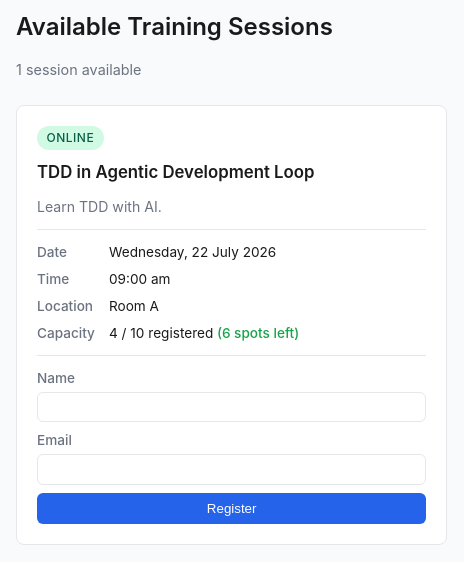
Scenario: TrainingSessionsPage registration › shows the closed message and hides the form when the server answers 422
Expected: the link "TDD in Agentic Development Loop" is shown, [37,162,314,182]
Type "Ada Lovelace" into the field labelled "Name" at (232, 407), box [37,392,426,422]
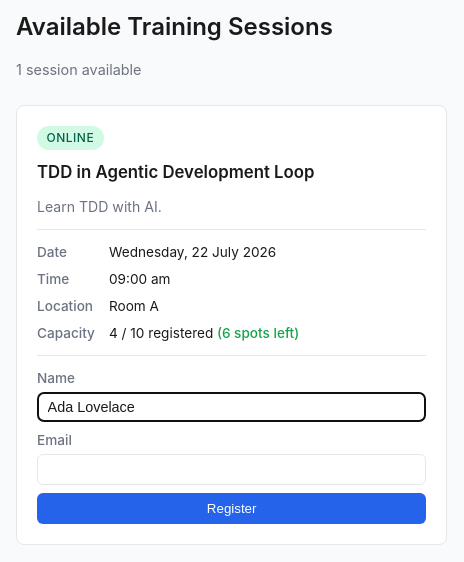
Type "ada@example.com" into the field labelled "Email" at (232, 469), box [37,454,426,485]
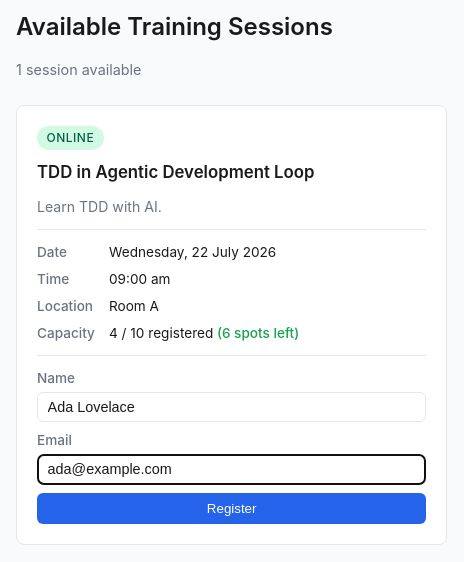
Click the button "Register" at (232, 508), box [37,493,426,524]
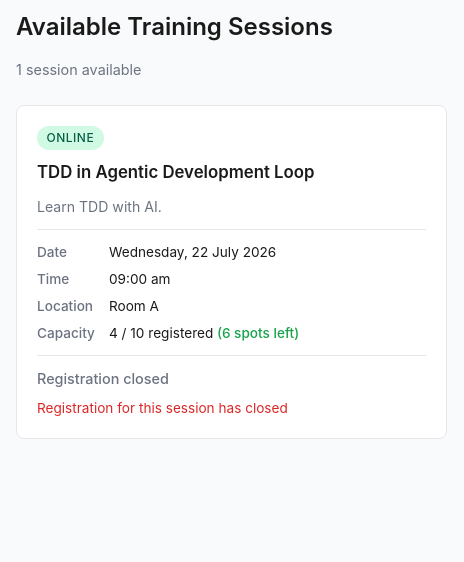
Expected: the message reads "Registration for this session has closed", [37,400,288,416]
Expected: the text "Registration closed" is shown, [37,370,169,387]
